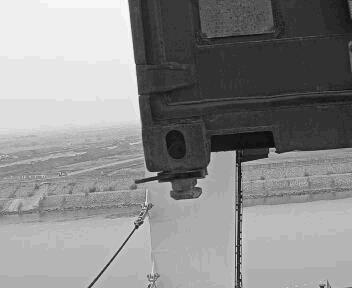twist_lock_1: (152, 166, 218, 210)
